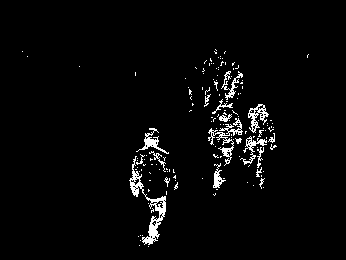person: (128, 123, 178, 248), (207, 95, 239, 198), (242, 101, 279, 190)
